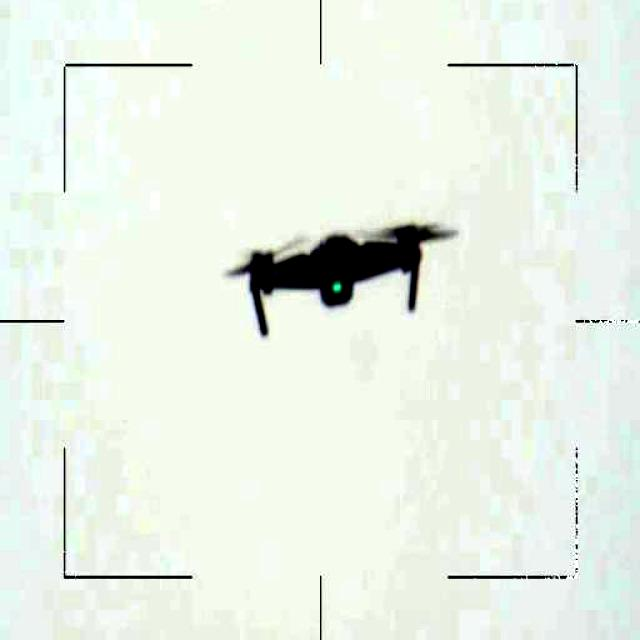bird: (208, 215, 464, 339)
